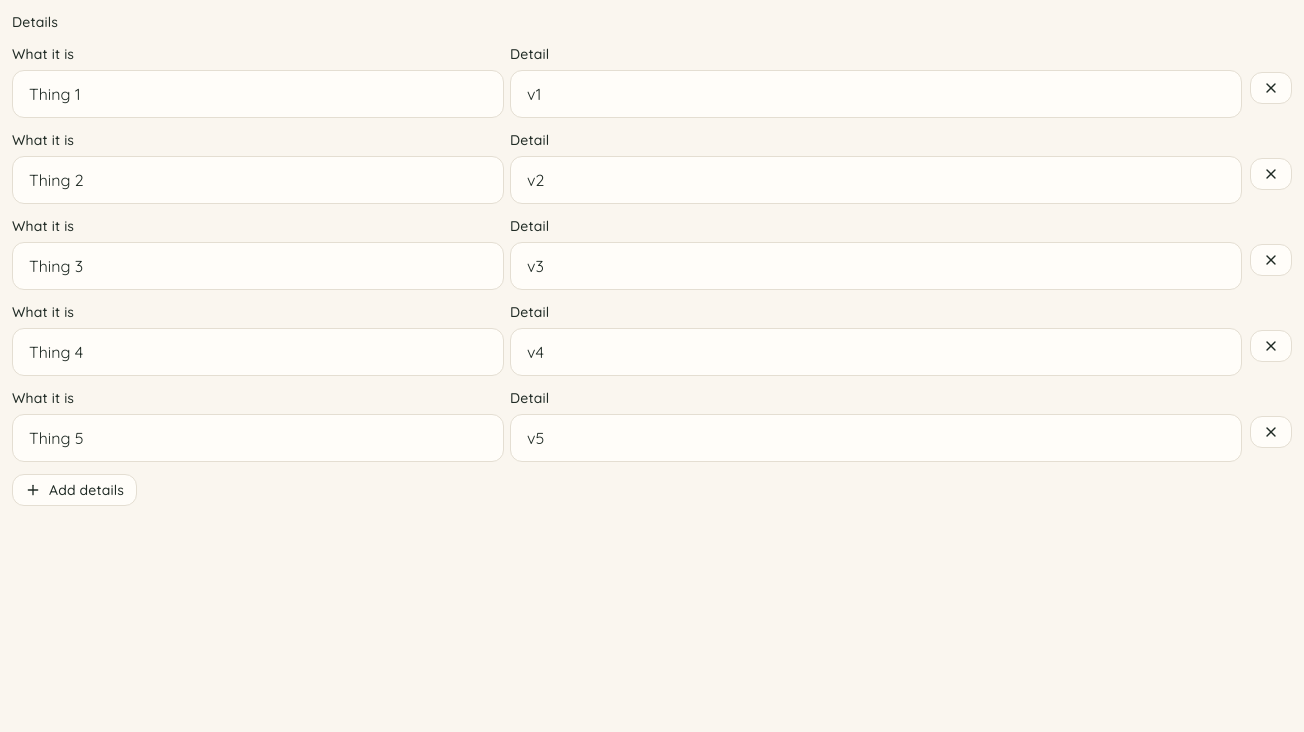
it: ItemDetailsField › disables Something else at five of them
This screenshot has width=1304, height=732.
Click the button "Add details".
click(74, 490)  # box [12,474,137,506]
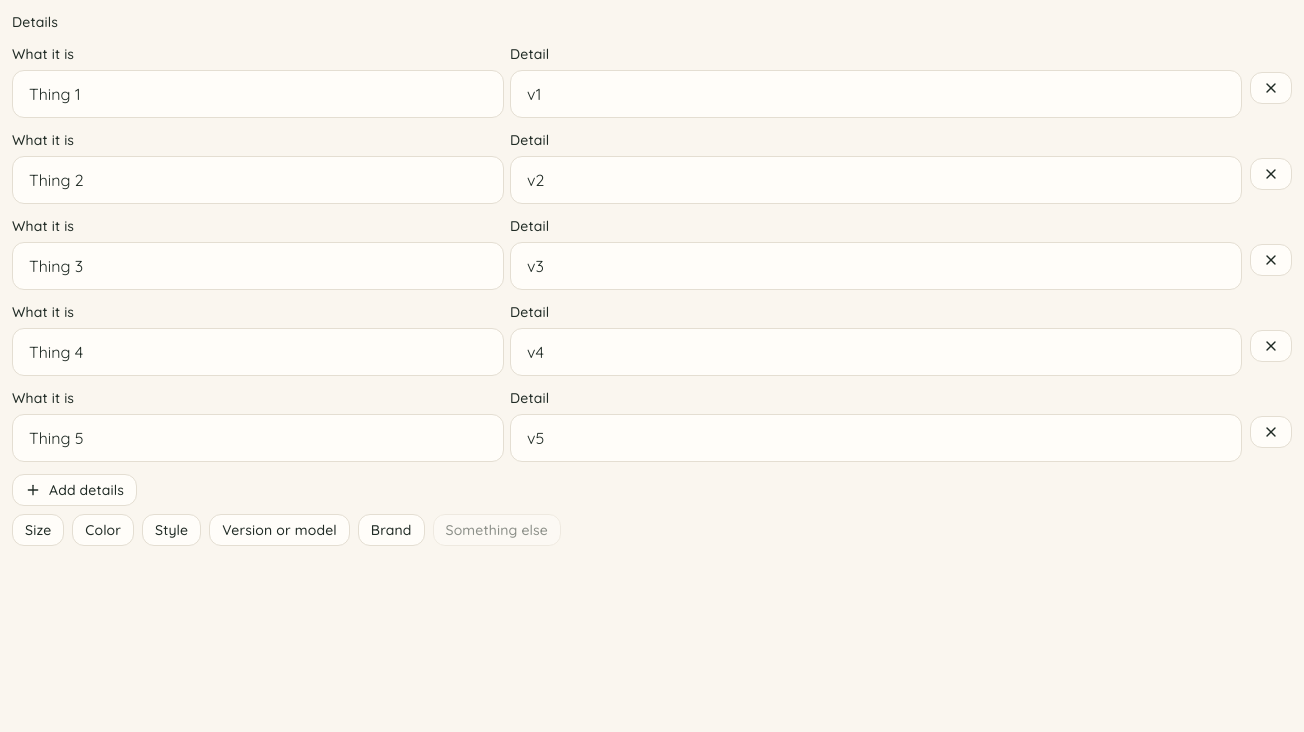
expect the button "Something else" is disabled: met, box [432,514,561,546]
expect the button "Size" is enabled: met, box [12,514,64,546]
